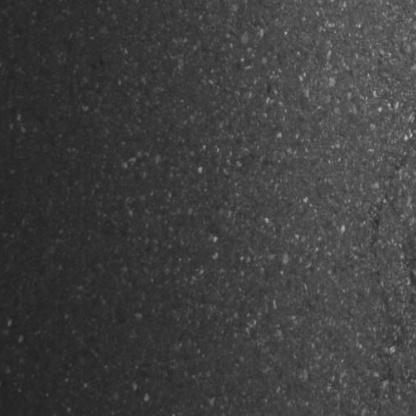Cracks: (365, 116, 416, 252)
